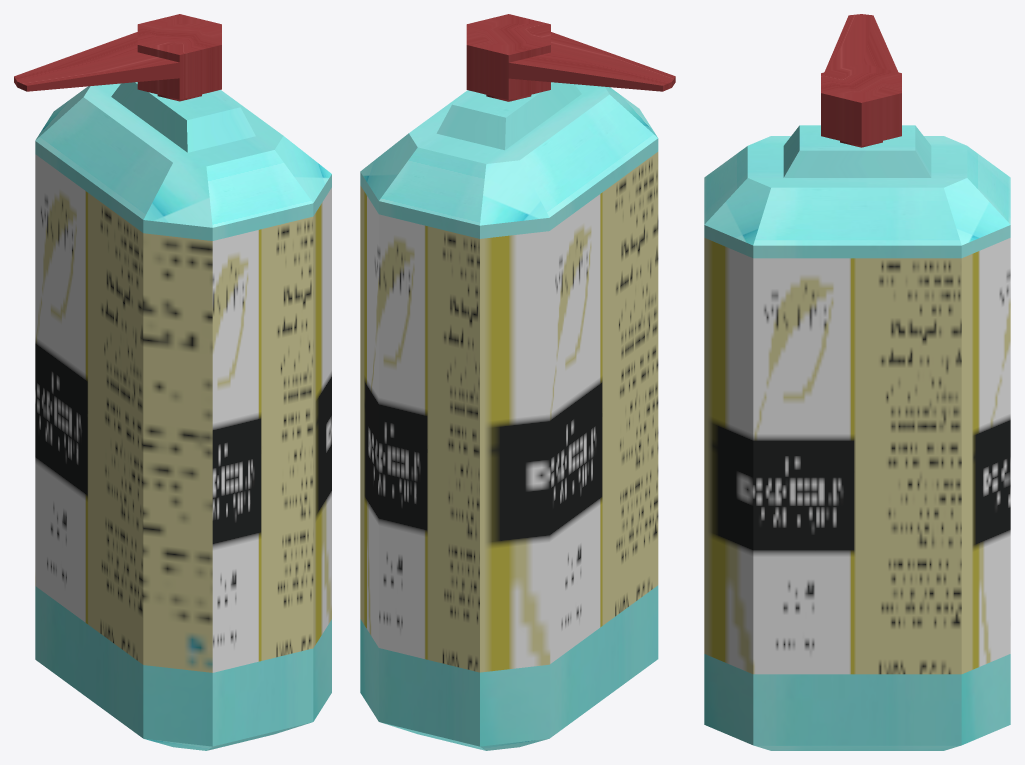
The model's file is dish soap1.FBX.
3 renders of one model, left to right at view 1: azimuth 30°, elevation 25°; view 2: azimuth 150°, elevation 25°; view 3: azimuth 270°, elevation 25°, orthographic. The views are drawn at different scales.
Visible parts, largest first — view 1: Object001, Box001, Cylinder001; view 2: Object001, Box001, Cylinder001; view 3: Object001, Box001, Cylinder001.
Part boxes in pixels (x1=…): Object001: x1=35, y1=154, x2=331, y2=672; Box001: x1=35, y1=82, x2=331, y2=750; Cylinder001: x1=14, y1=14, x2=221, y2=101; Object001: x1=360, y1=152, x2=658, y2=672; Box001: x1=360, y1=82, x2=658, y2=750; Cylinder001: x1=466, y1=14, x2=675, y2=101; Object001: x1=704, y1=238, x2=1010, y2=674; Box001: x1=704, y1=125, x2=1010, y2=750; Cylinder001: x1=821, y1=14, x2=901, y2=147.
Bounding box in the file's own units: 50.07 × 123 × 53.37.
3 materials, 3 textured.
